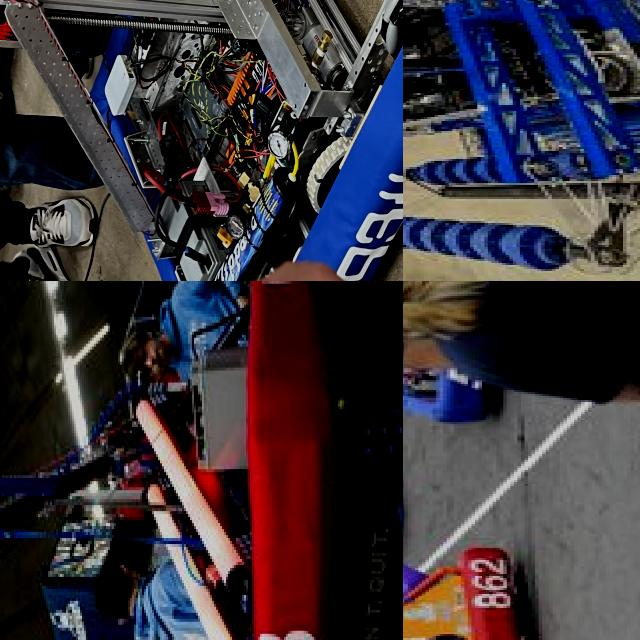FRC-Robots: (0, 281, 360, 640), (0, 0, 403, 281), (403, 0, 640, 281)
